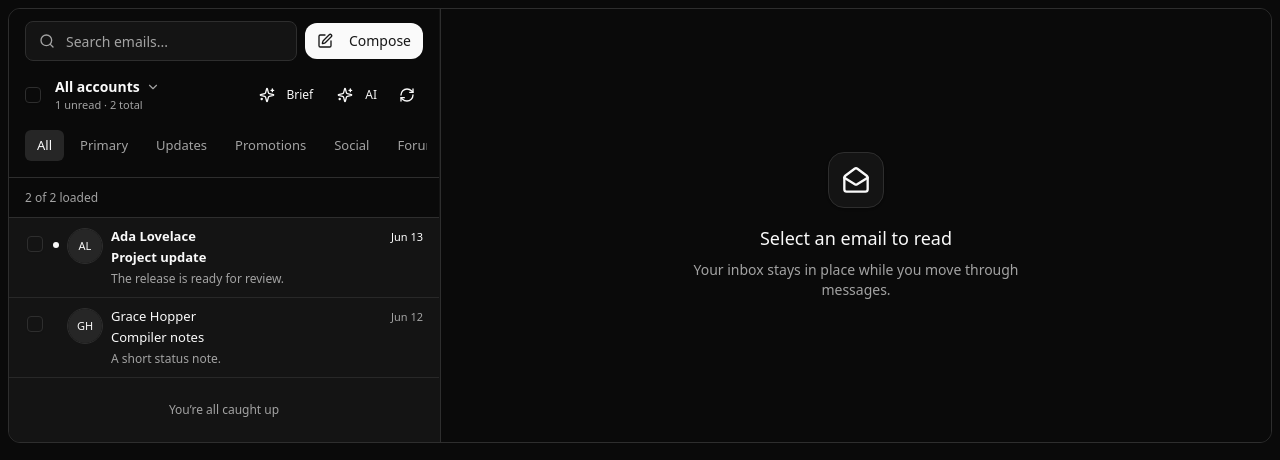
it: InboxList › searches full connected accounts through the email API
expect the text "Project update" is shown: met, box [111, 248, 206, 266]
Type "compiler" into the search field with placeholder "Search emails...".
click(161, 41); type("compiler")  # box [25, 21, 297, 61]
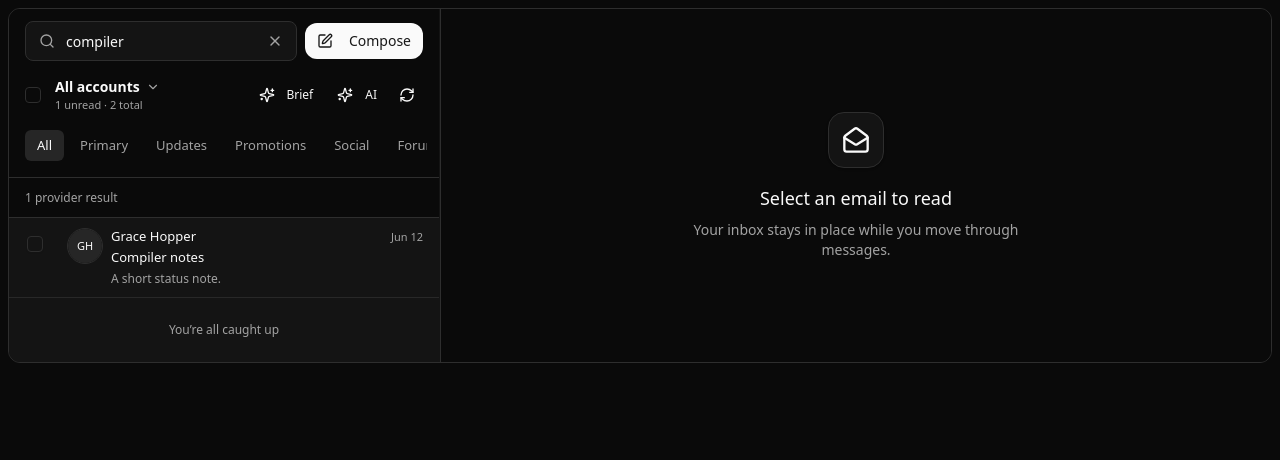
expect the text "Compiler notes" is shown: met, box [111, 248, 204, 266]
expect the text "Project update" is gone: met
expect the text "1 provider result" is shown: met, box [25, 190, 118, 206]
